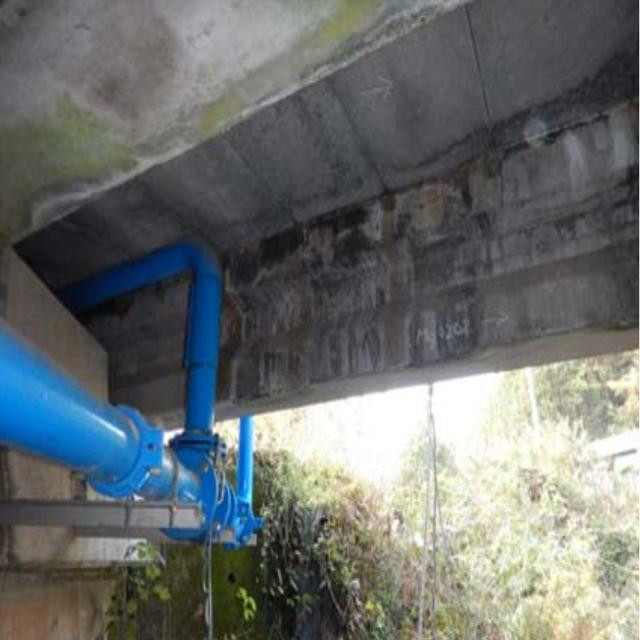freelime: (217, 226, 484, 380)
